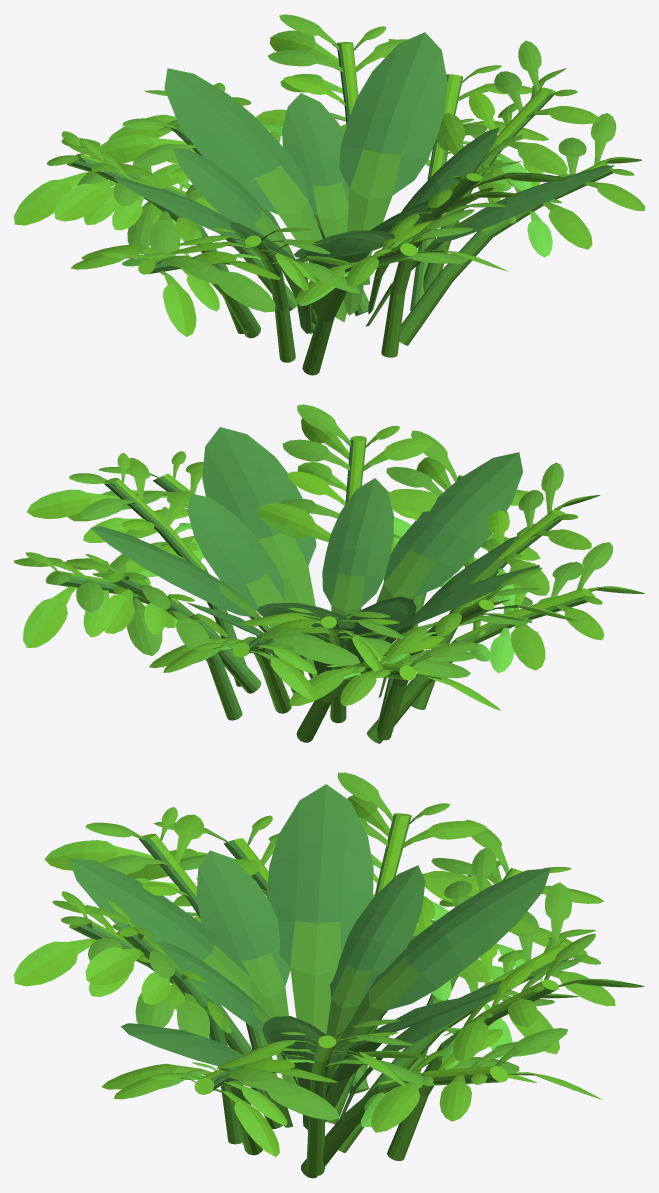
The model's file is buildig.003_green_(grass)_0_lev3.glb.
3 views of the same model, one above another, from view 1: azimuth 30°, elevation 25°; view 2: azimuth 150°, elevation 25°; view 3: azimuth 270°, elevation 25° (orthographic). The views are drawn at different scales.
Visible parts, largest first — view 1: buildig.003_green_(grass)_0_lev3; view 2: buildig.003_green_(grass)_0_lev3; view 3: buildig.003_green_(grass)_0_lev3.
Boxes of the visible parts, <box> form: buildig.003_green_(grass)_0_lev3: <box>14,14,644,375</box>; buildig.003_green_(grass)_0_lev3: <box>14,404,644,743</box>; buildig.003_green_(grass)_0_lev3: <box>14,772,644,1178</box>.
Bounding box in the file's own units: 0.3796 × 0.1605 × 0.3335.
1 material, 1 textured.
